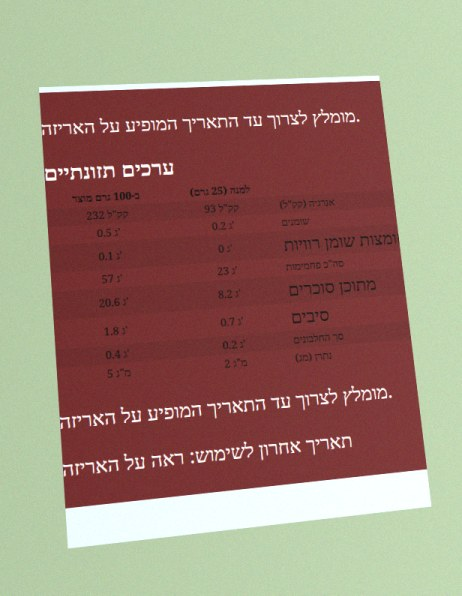carbs: (99, 269, 125, 288)
energy: (84, 204, 131, 225)
fat: (94, 223, 123, 242)
protein: (103, 344, 132, 364)
